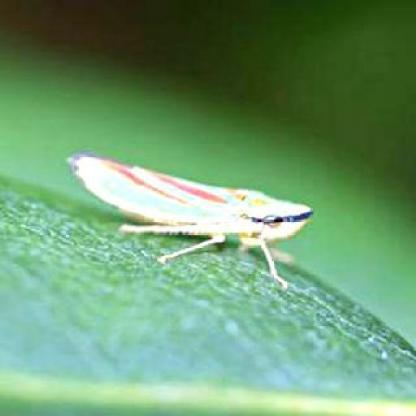green-leafhopper: (70, 146, 313, 266)
